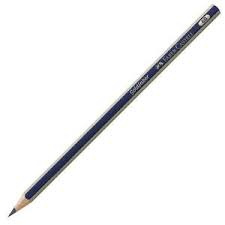Lapiz: (6, 4, 225, 213)
